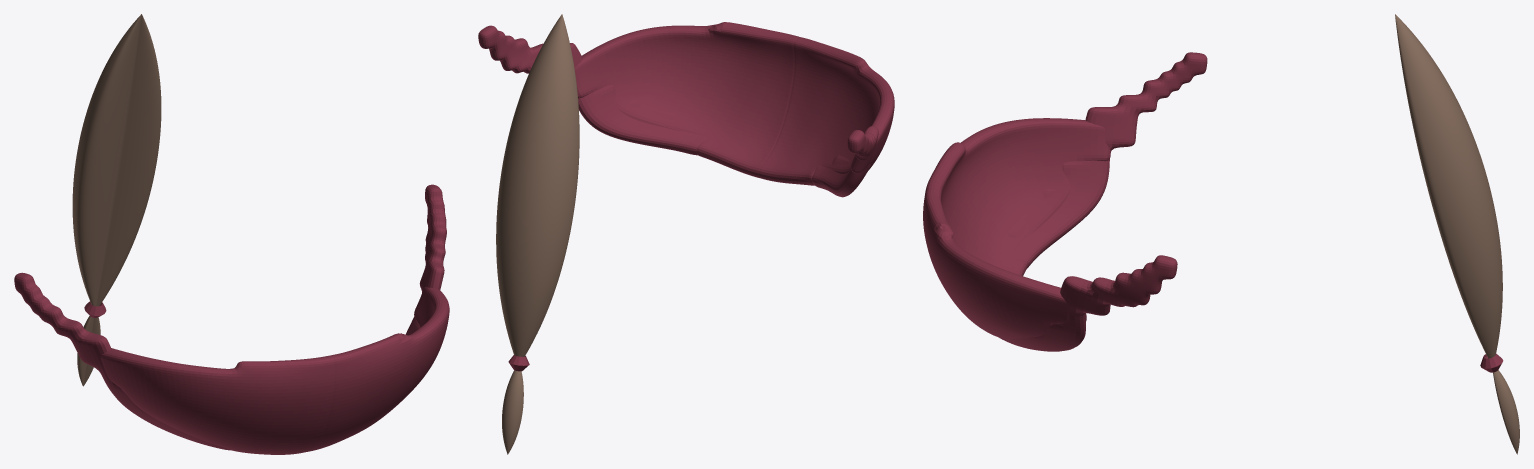
The model's file is Hat 4.fbx.
3 renders of one model, left to right at view 1: azimuth 30°, elevation 25°; view 2: azimuth 150°, elevation 25°; view 3: azimuth 270°, elevation 25°, orthographic. The views are drawn at different scales.
Parts seen in each view (by area): view 1: Hat 4; view 2: Hat 4; view 3: Hat 4.
Part boxes in pixels (x1,y1,x2,y2): Hat 4: (14, 14, 449, 454); Hat 4: (478, 14, 894, 454); Hat 4: (923, 14, 1519, 454).
Size of the model in its own units: 91.54 by 88.57 by 109.
